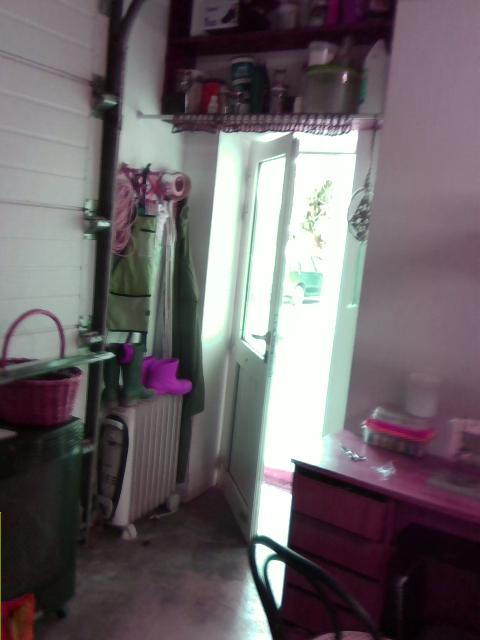semi_door: (212, 129, 351, 545)
